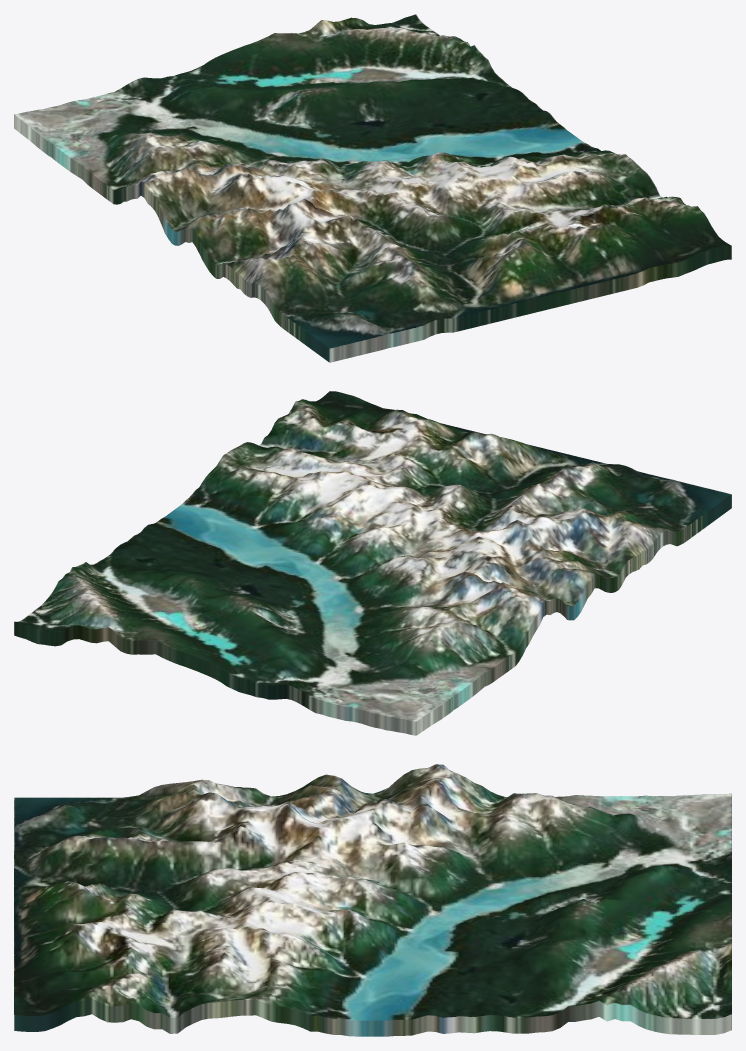
3 renders of one model, top to bottom at view 1: azimuth 30°, elevation 25°; view 2: azimuth 150°, elevation 25°; view 3: azimuth 270°, elevation 25°, orthographic. The views are drawn at different scales.
Parts seen in each view (by area): view 1: tile; view 2: tile; view 3: tile.
Part boxes in pixels (x1,y1,x2,y2): tile: (14, 14, 731, 362); tile: (14, 391, 731, 735); tile: (14, 764, 731, 1036).
Bounding box in the file's own units: 16200 × 2046 × 22020.
Materials: 1 (1 with a texture image).
